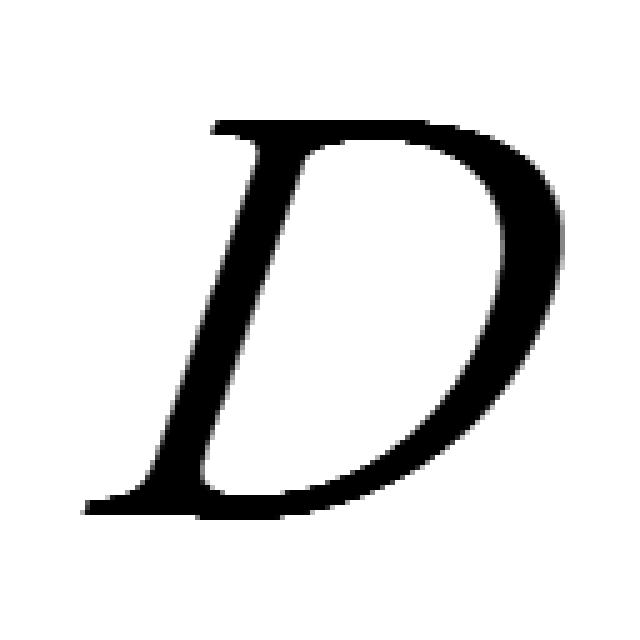D: (75, 105, 565, 525)
